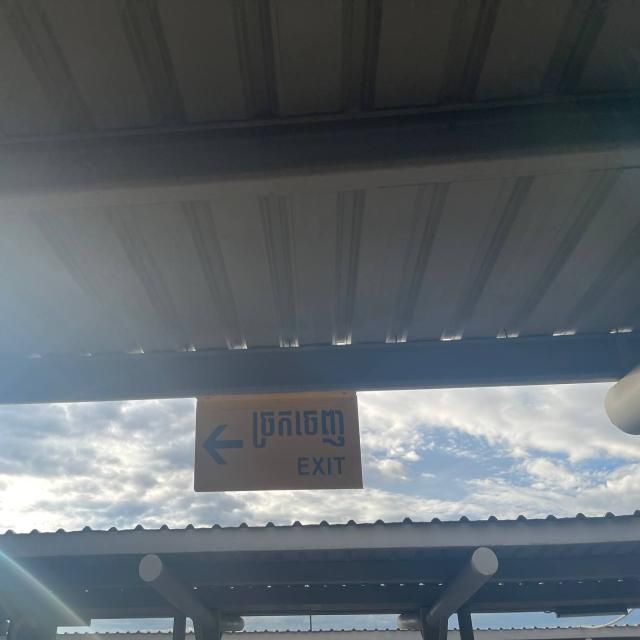Yolov11_80vkh: (248, 406, 353, 445)
